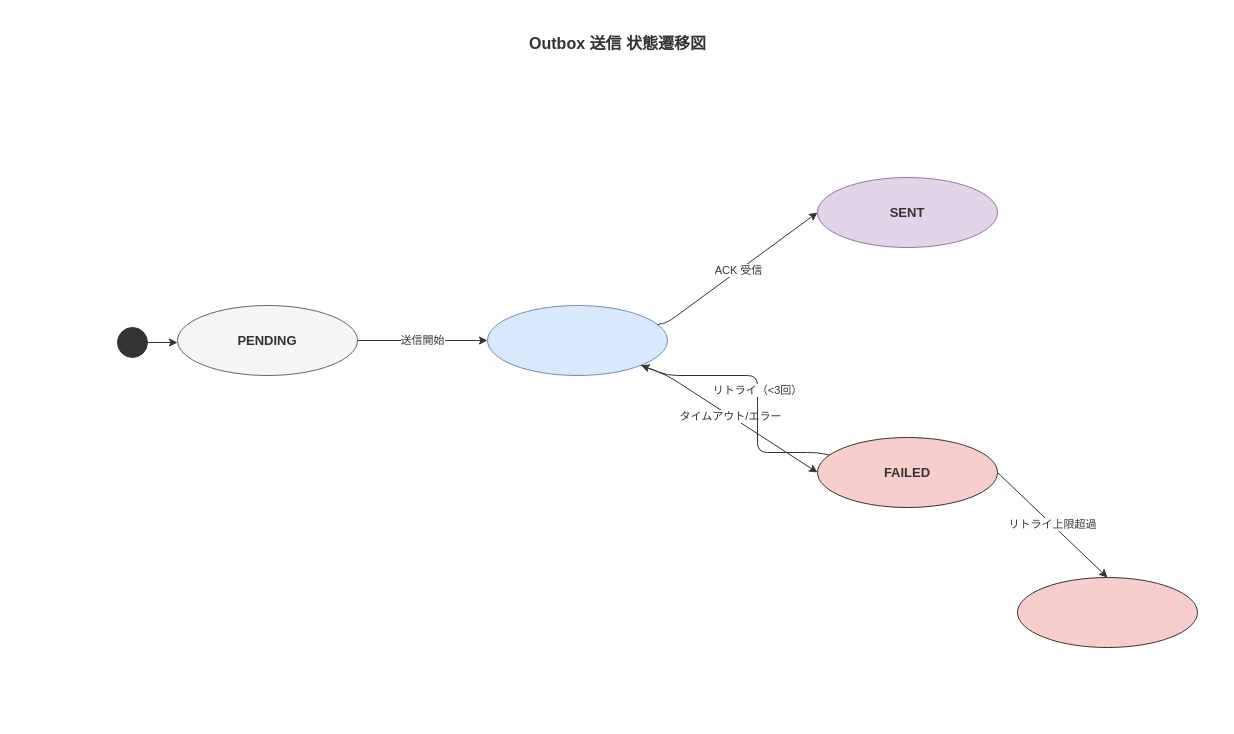
Some shapes in this 1234 by 734 pixel diagram are drawn without their labels. The shapes that lost their labels are listed below. From the top down, each one's centre as x and y in pixels, then its label:
At point (577, 340): "SENDING".
At point (1107, 612): "DLQ".
